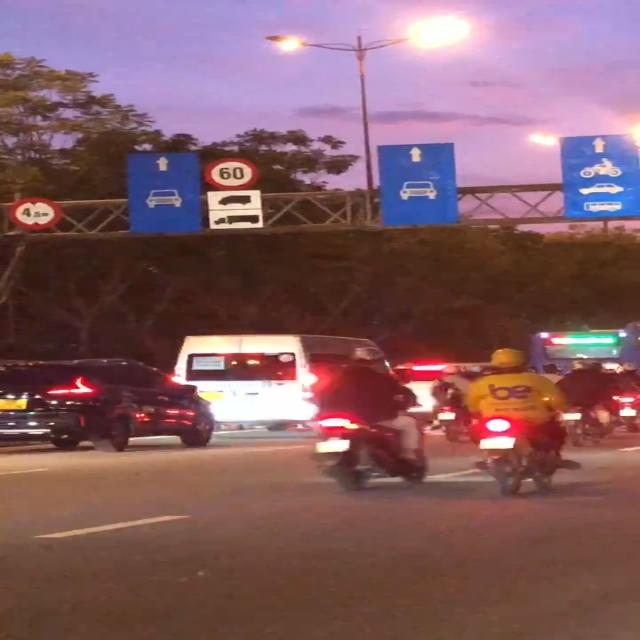Bien bao han che chieu cao: (11, 196, 66, 230)
Bien bao toc do toi da cho phep: (204, 154, 268, 189)
